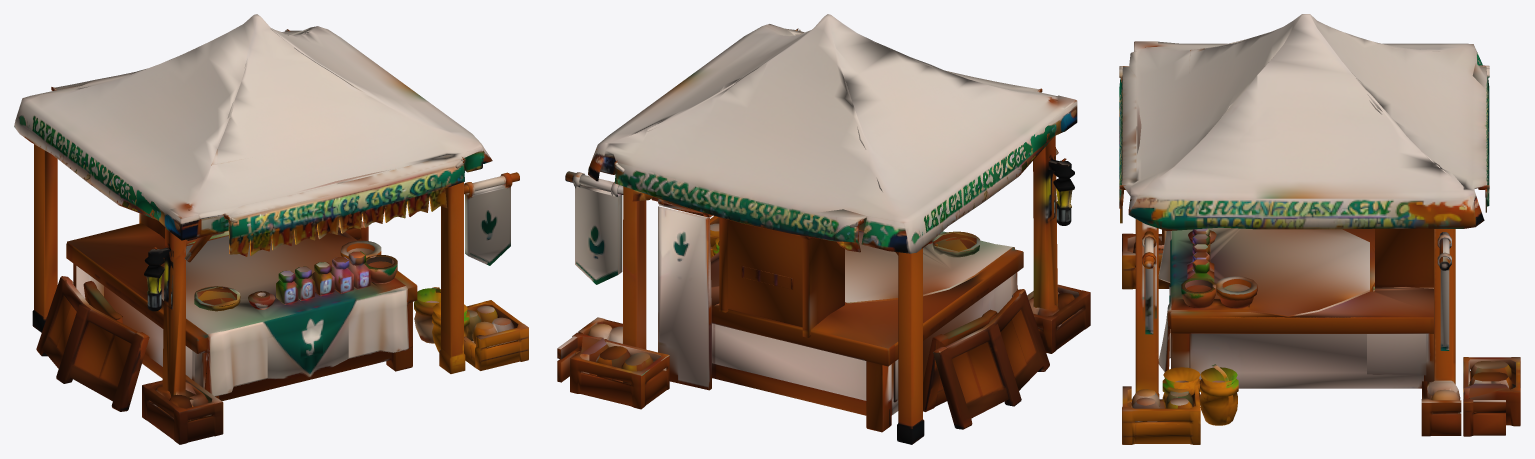
Rendered from Puesto 2 para usar.fbx.
The picture shows the model from 3 angles, left to right: view 1: azimuth 30°, elevation 25°; view 2: azimuth 150°, elevation 25°; view 3: azimuth 270°, elevation 25°; orthographic projection. The views are drawn at different scales.
Parts seen in each view (by area): view 1: texture_pbr_v128; view 2: texture_pbr_v128; view 3: texture_pbr_v128.
Boxes of the visible parts, x1=… form: texture_pbr_v128: x1=14, y1=14, x2=528, y2=444; texture_pbr_v128: x1=557, y1=14, x2=1090, y2=444; texture_pbr_v128: x1=1119, y1=14, x2=1520, y2=444.
Bounding box in the file's own units: 607 × 507 × 540.
Materials: 1 (1 with a texture image).
